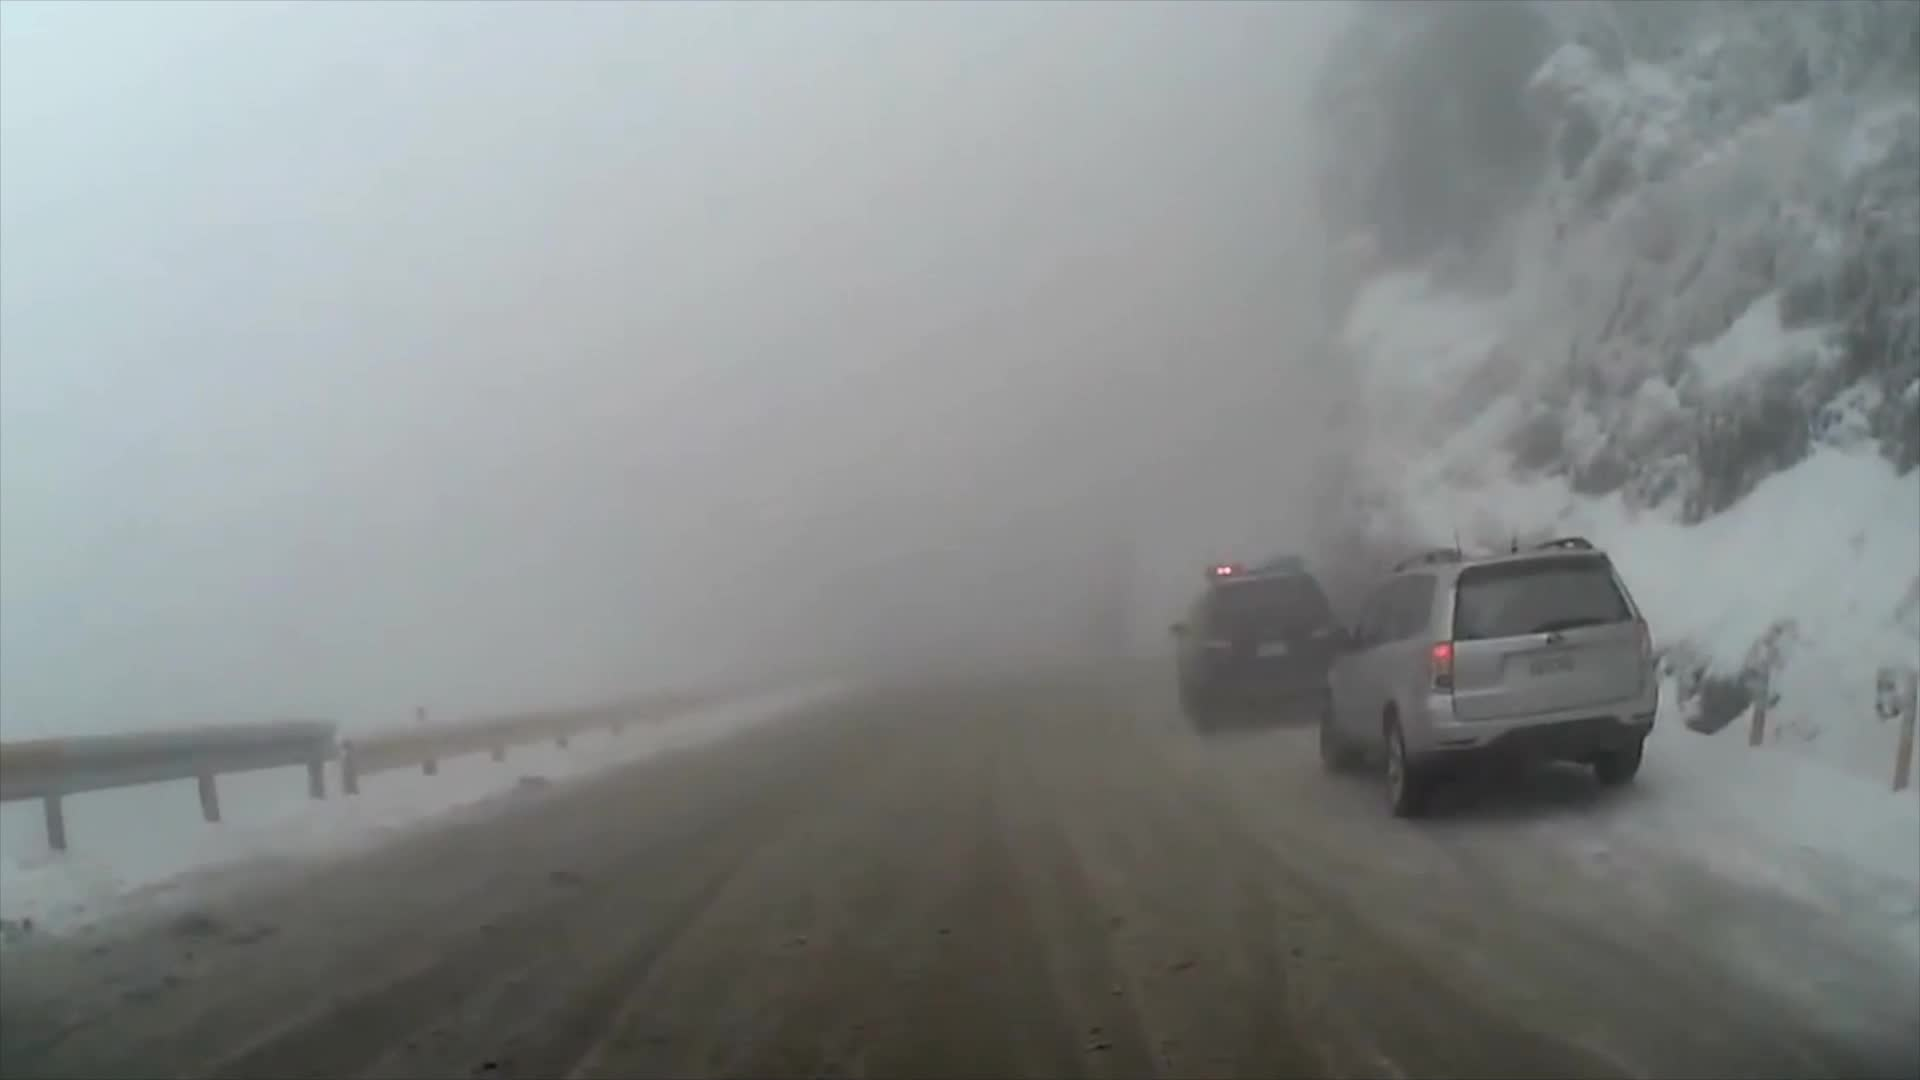vehicle: (1317, 534, 1660, 822), (1166, 550, 1346, 731)
